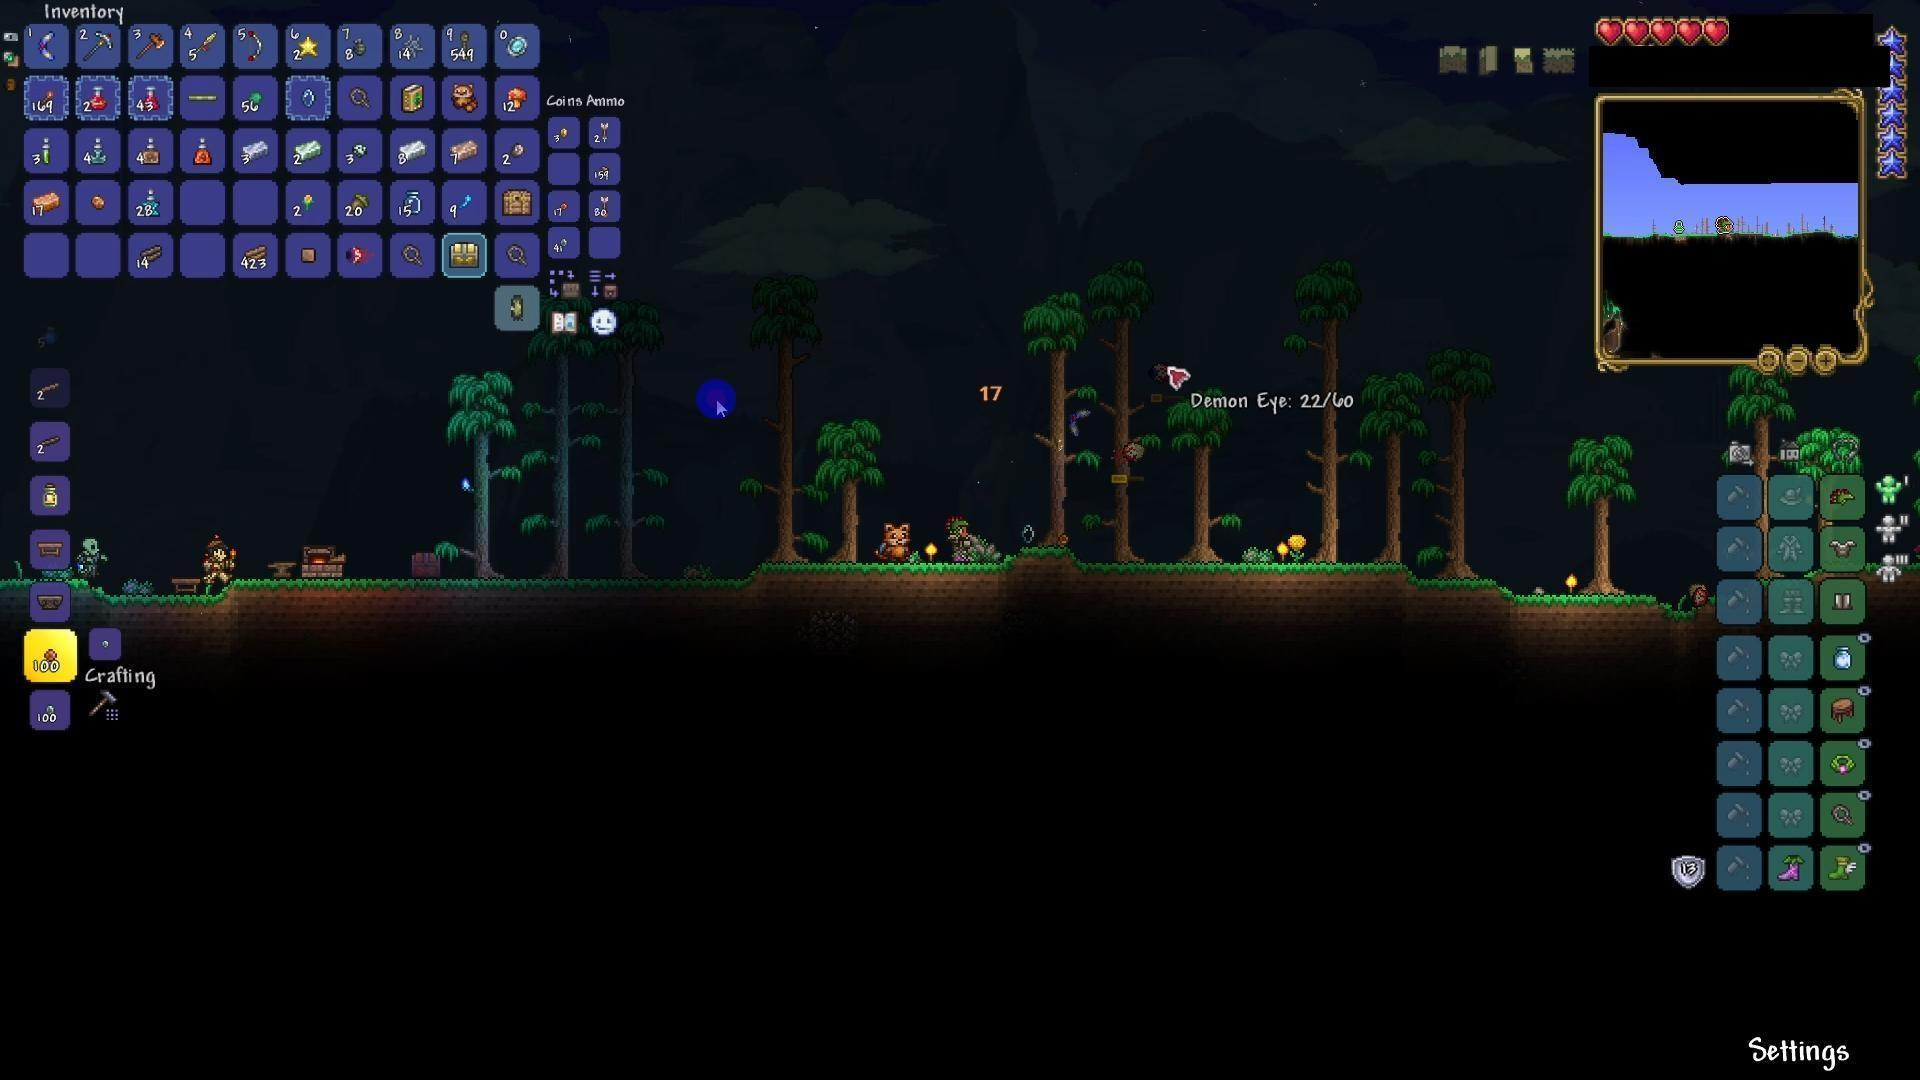dirt: (1081, 550, 1403, 613), (223, 567, 487, 618), (748, 556, 1000, 592), (483, 576, 750, 607), (1506, 580, 1656, 622), (76, 587, 216, 617), (997, 542, 1088, 588), (1400, 575, 1510, 603)
heart: (1702, 17, 1733, 51), (1593, 16, 1626, 46), (1676, 15, 1704, 50), (1650, 16, 1676, 49), (1625, 15, 1651, 44)
tree: (1092, 241, 1163, 556), (1288, 243, 1353, 575), (1021, 295, 1091, 537), (1439, 340, 1506, 578), (1564, 425, 1651, 603), (454, 357, 518, 575), (1357, 352, 1415, 567), (1168, 380, 1226, 562), (823, 405, 877, 564)
